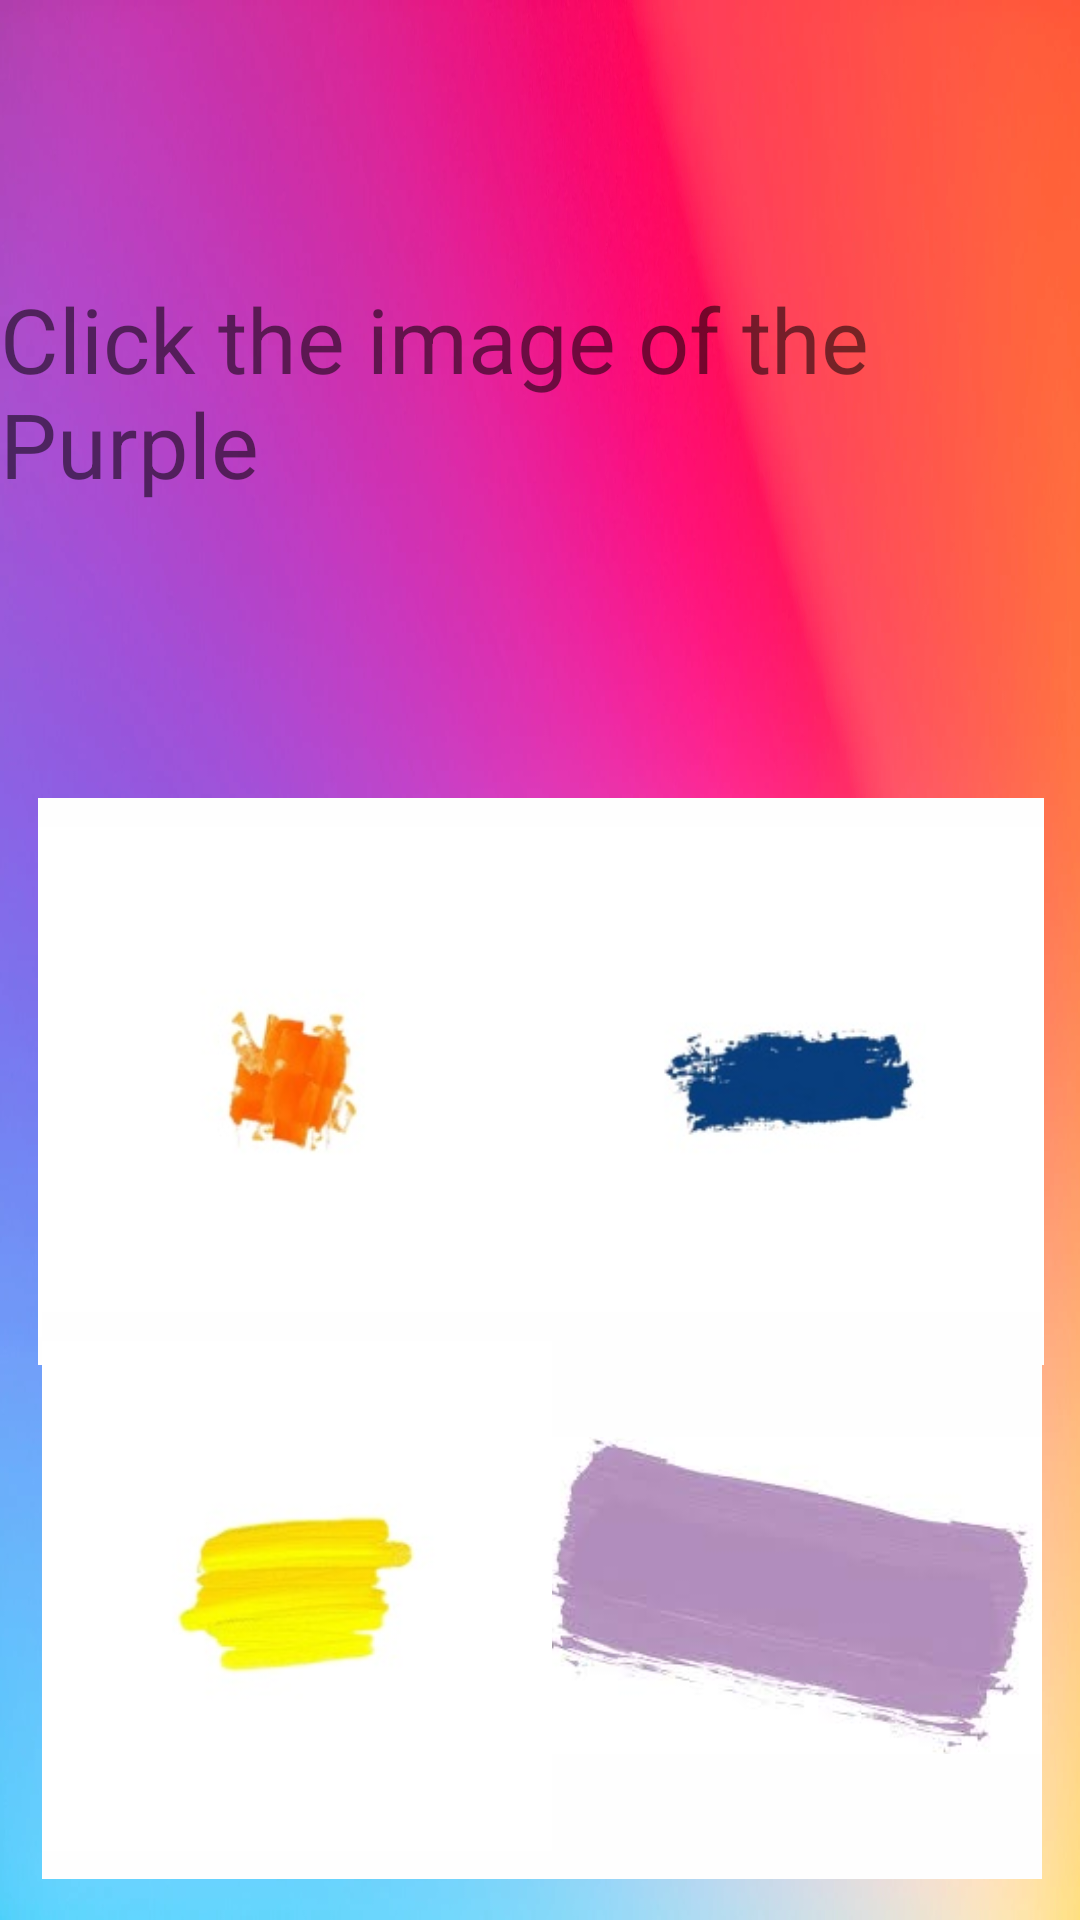

Icon bounding boxes for this 1080w x 1920h phone screenshot, format [left=x1, top=y1, right=x2, bottom=y2]:
Blue Picture: [left=664, top=1030, right=914, bottom=1134]
Orange Picture: [left=228, top=1010, right=357, bottom=1151]
